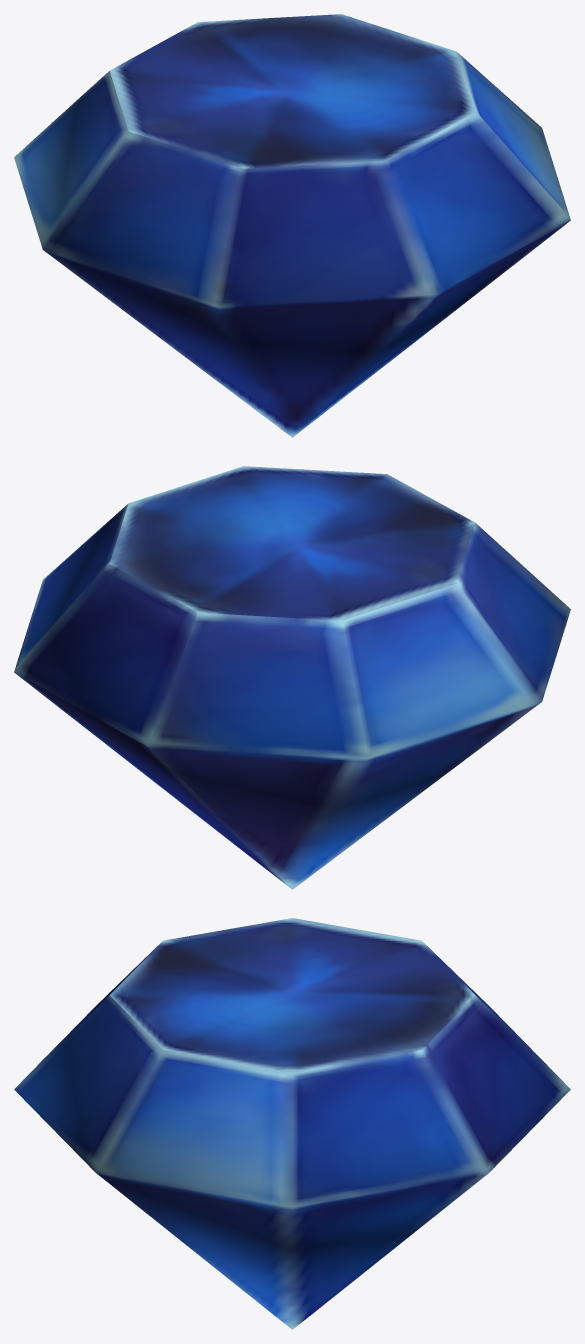
Rendered from gem_04.fbx.
The picture shows the model from 3 angles, top to bottom: view 1: azimuth 30°, elevation 25°; view 2: azimuth 150°, elevation 25°; view 3: azimuth 270°, elevation 25°; orthographic projection. The views are drawn at different scales.
Visible parts, largest first — view 1: gem_04; view 2: gem_04; view 3: gem_04.
Boxes of the visible parts, x1,y1,x2,y2 form: gem_04: [14, 14, 570, 437]; gem_04: [14, 466, 570, 889]; gem_04: [14, 918, 570, 1329].
Size of the model in its own units: 26.27 by 17.42 by 26.27.
